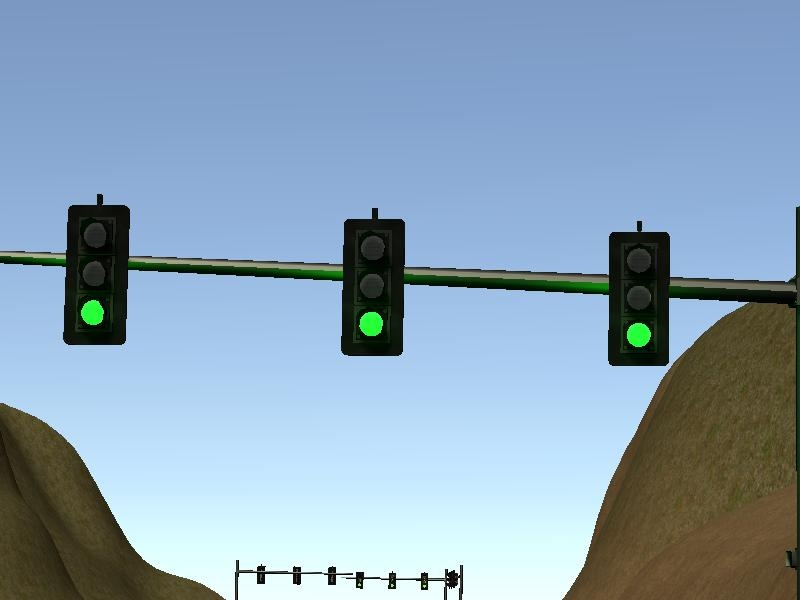green: (61, 200, 132, 347), (337, 215, 409, 358), (605, 228, 673, 369)
